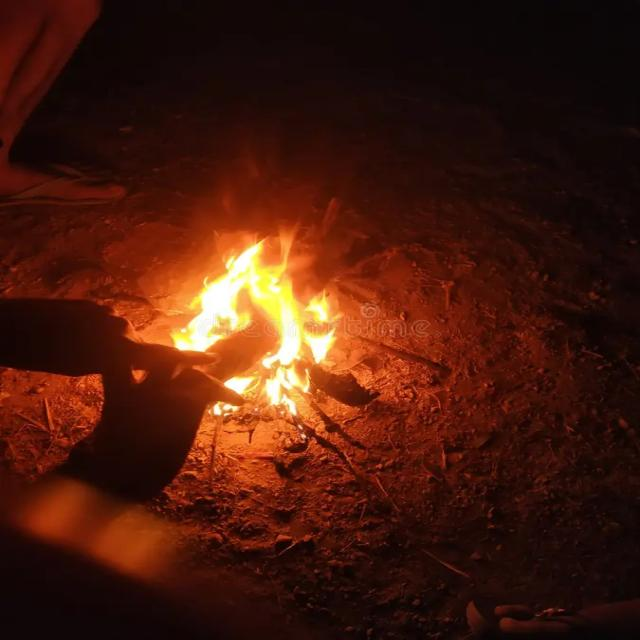fire: (172, 237, 335, 415)
